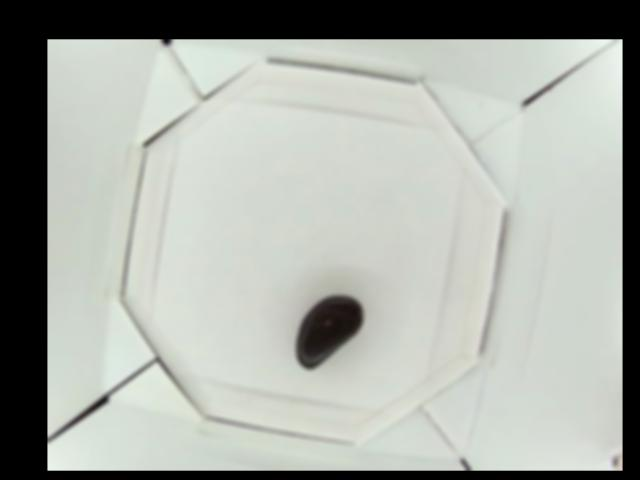Pebble: (295, 294, 365, 370)
